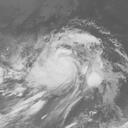cyclone: (7, 18, 118, 118)
